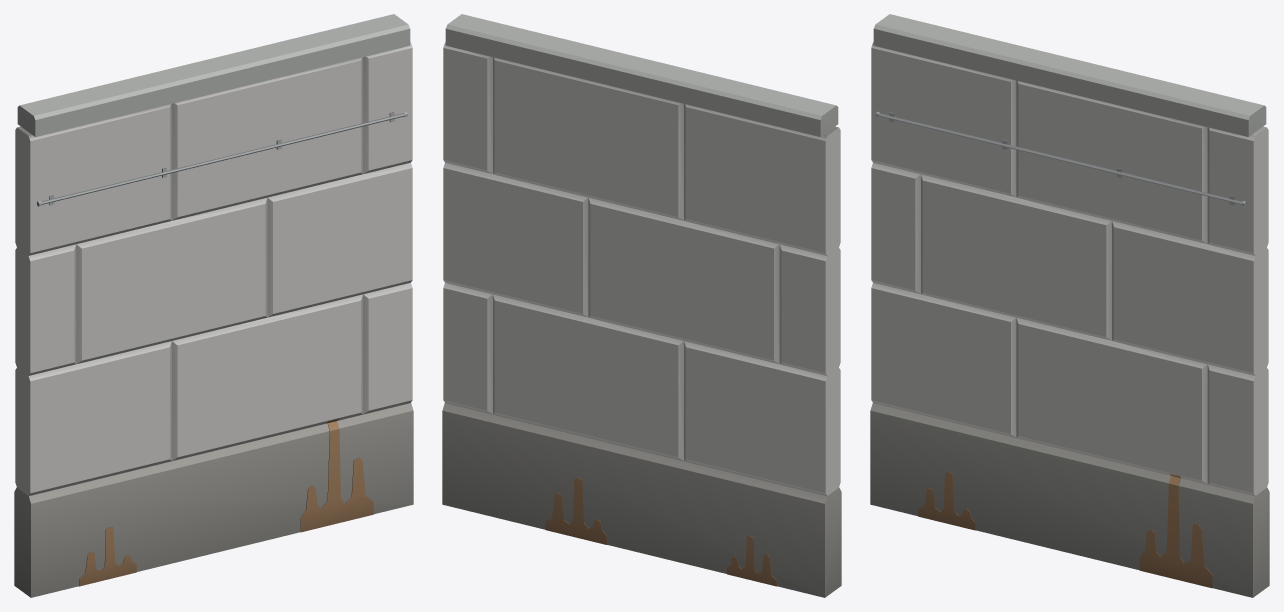
File: wall.glb
3 views of the same model, side by side, from view 1: azimuth 30°, elevation 25°; view 2: azimuth 150°, elevation 25°; view 3: azimuth 330°, elevation 25° (orthographic).
Visible parts, largest first — view 1: wall.001; view 2: wall.001; view 3: wall.001.
Boxes of the visible parts, box(x1,y1,x2,y2) form: wall.001: box(14, 14, 413, 597); wall.001: box(442, 14, 841, 597); wall.001: box(870, 14, 1269, 597).
Size of the model in its own units: 2.4 by 2.88 by 0.2007.
